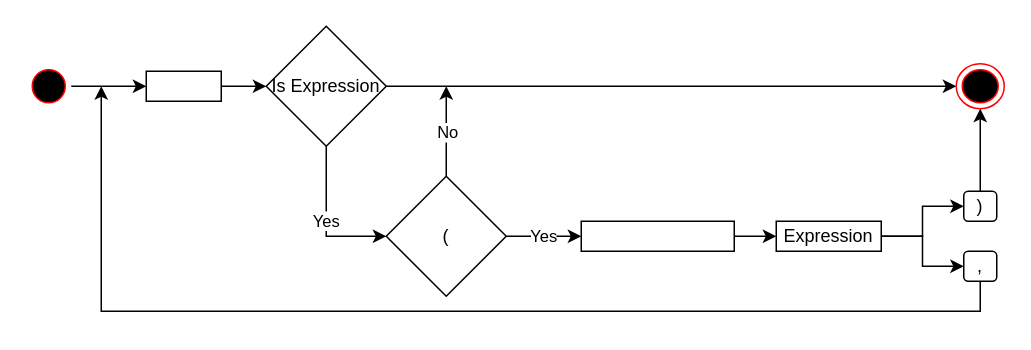
Image size: 1031x350. Some labels were removed from this diagram. Here are the shapes that lost their labels. From the top down, the box of each, then its label:
(145, 70, 221, 101): Path
(580, 220, 734, 251): Argument Name
